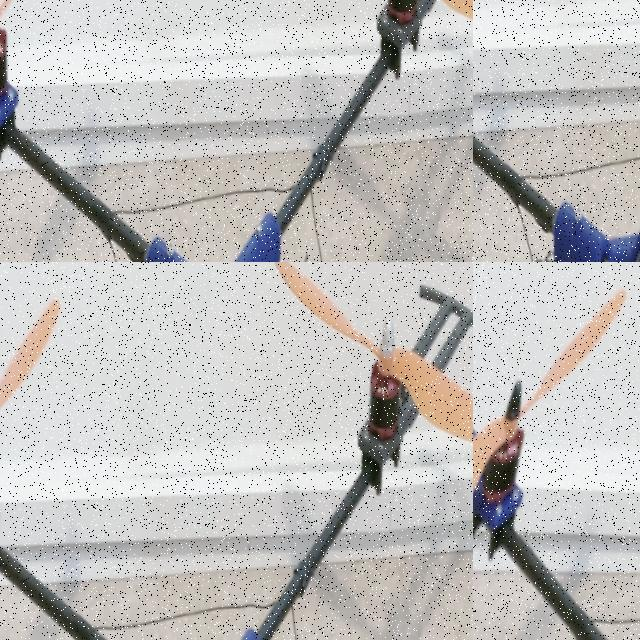drone: (473, 262, 640, 640)
